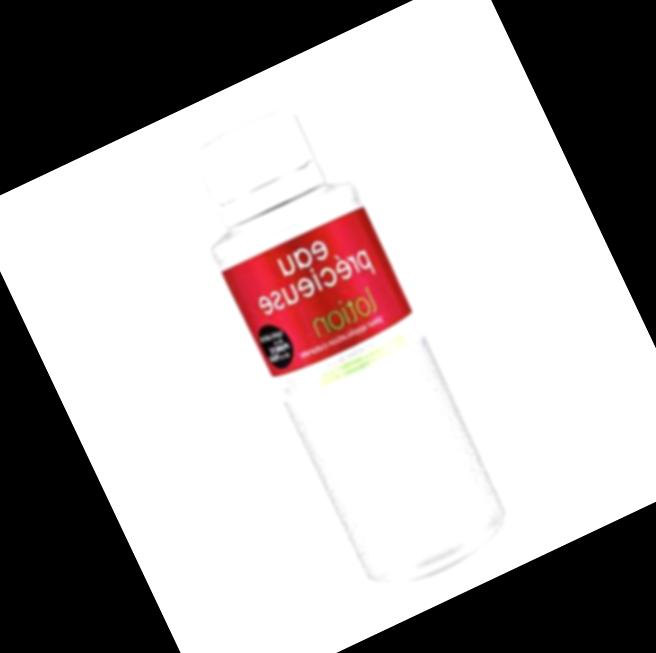cosmetic: (168, 93, 511, 582)
